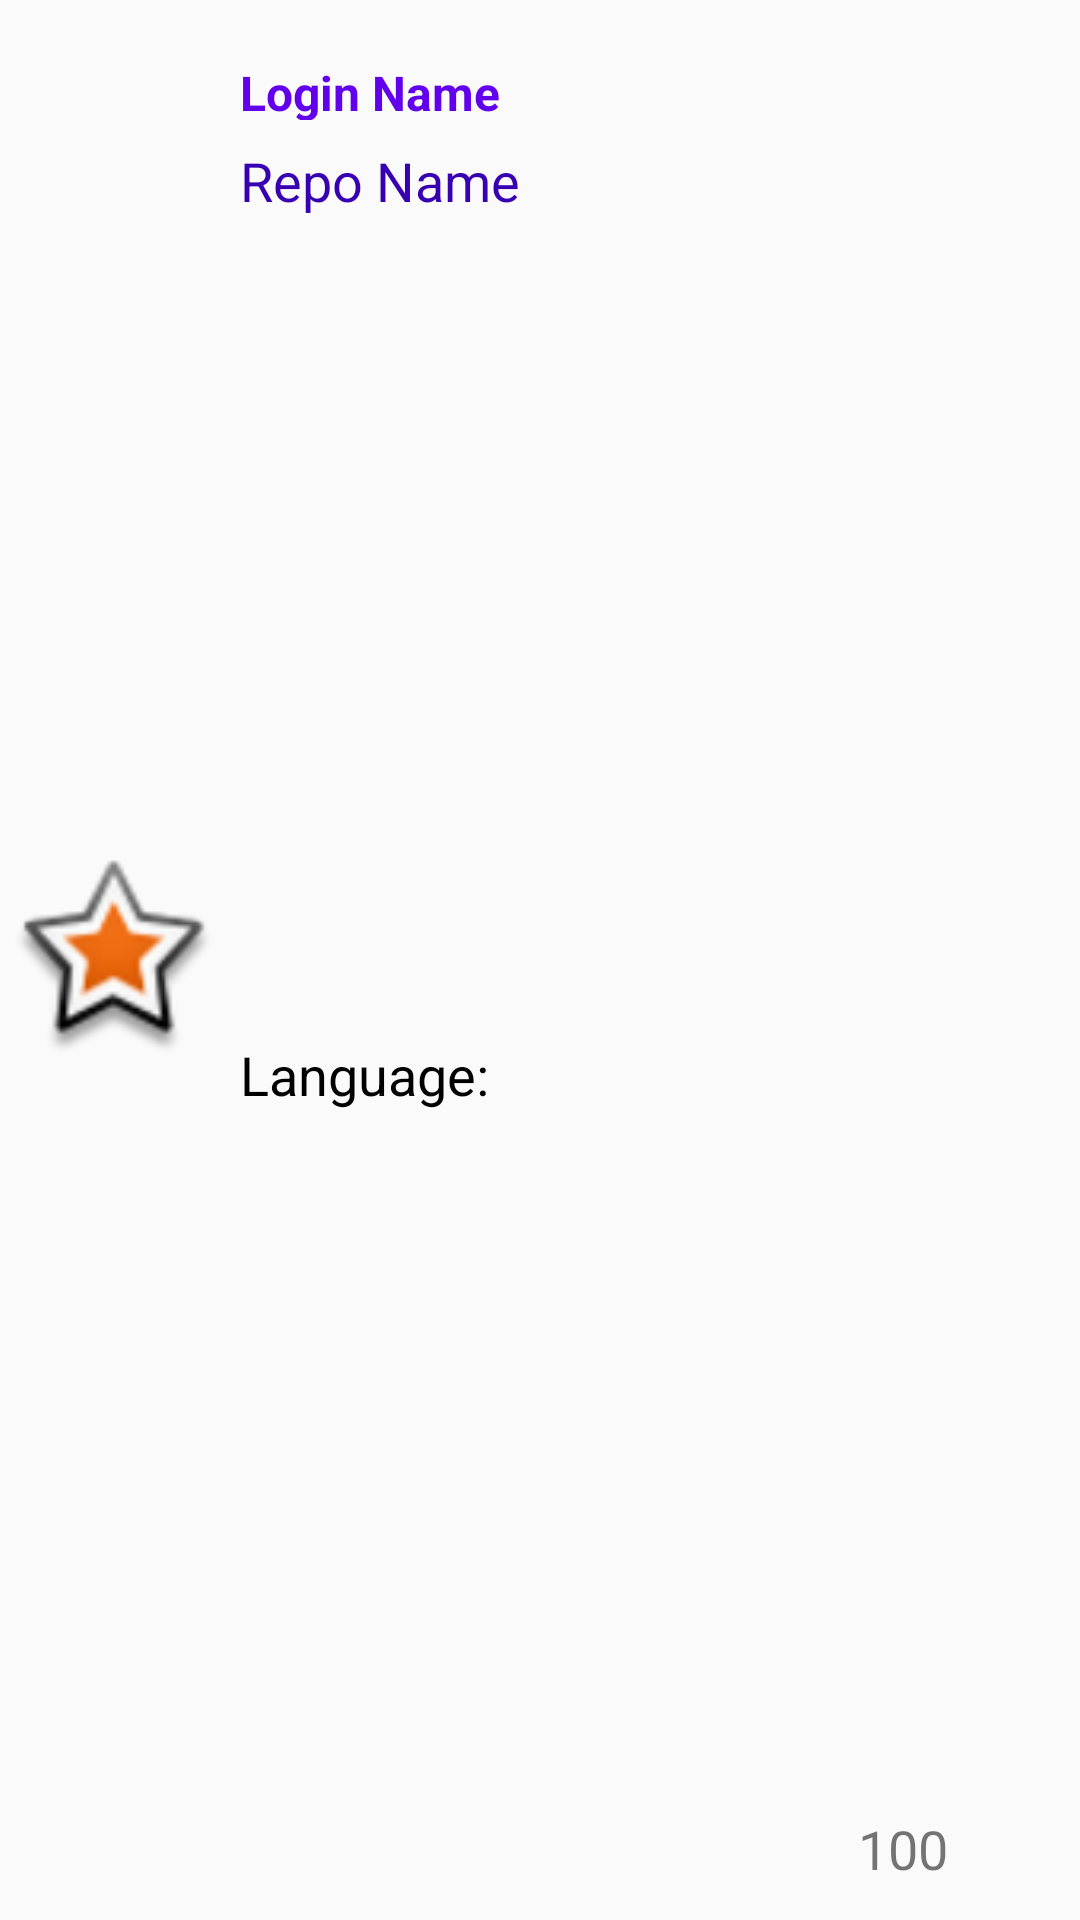

Locate icon controls on the screen. Image size 1080 × 1920, boxes as (x1, y1, x2, y2).
star on: (23, 861, 204, 1045)
